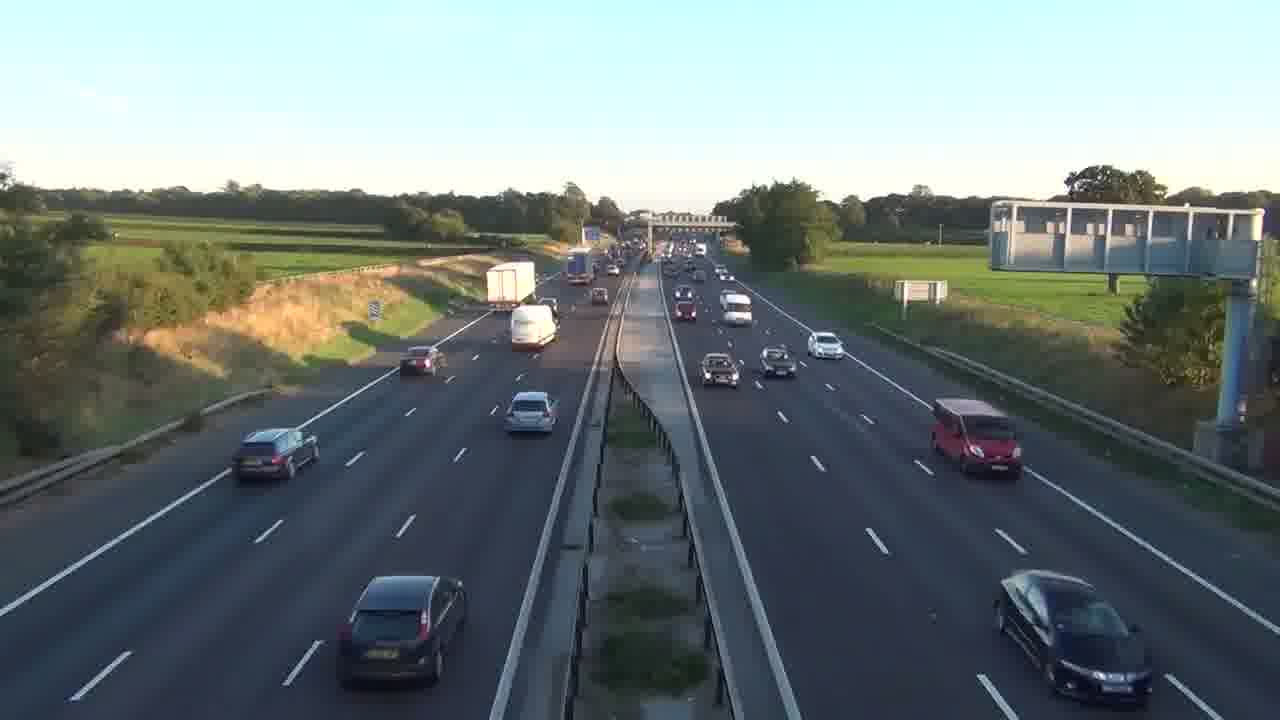car: (335, 574, 468, 687), (230, 427, 320, 484), (505, 390, 560, 435), (699, 352, 741, 389), (759, 345, 798, 378), (808, 332, 845, 360)
truck: (993, 567, 1155, 707), (929, 397, 1025, 480), (486, 261, 536, 309)
